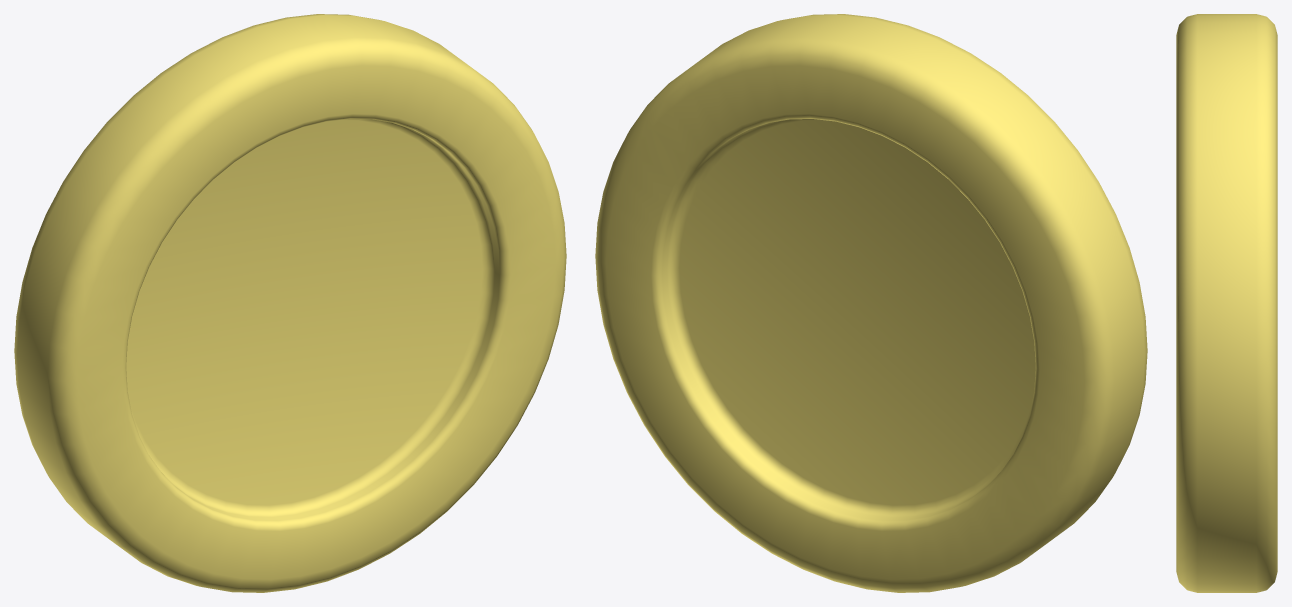
The model's file is Coins.fbx.
3 views of the same model, side by side, from view 1: azimuth 30°, elevation 25°; view 2: azimuth 150°, elevation 25°; view 3: azimuth 270°, elevation 25° (orthographic). The views are drawn at different scales.
Visible parts, largest first — view 1: Coins; view 2: Coins; view 3: Coins.
Boxes of the visible parts, bbox=[...] form: Coins: bbox=[14, 14, 566, 592]; Coins: bbox=[595, 14, 1147, 592]; Coins: bbox=[1176, 14, 1277, 592].
Bounding box in the file's own units: 163 × 163 × 28.6.
